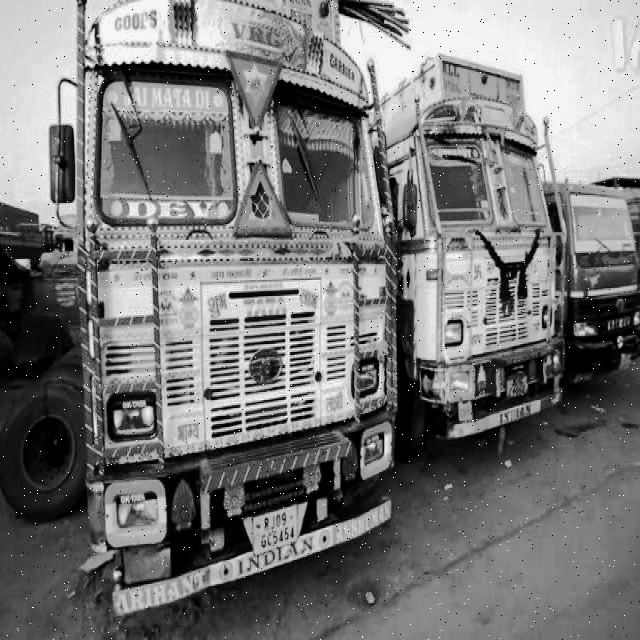HCV: (52, 5, 400, 604), (413, 29, 575, 458)
